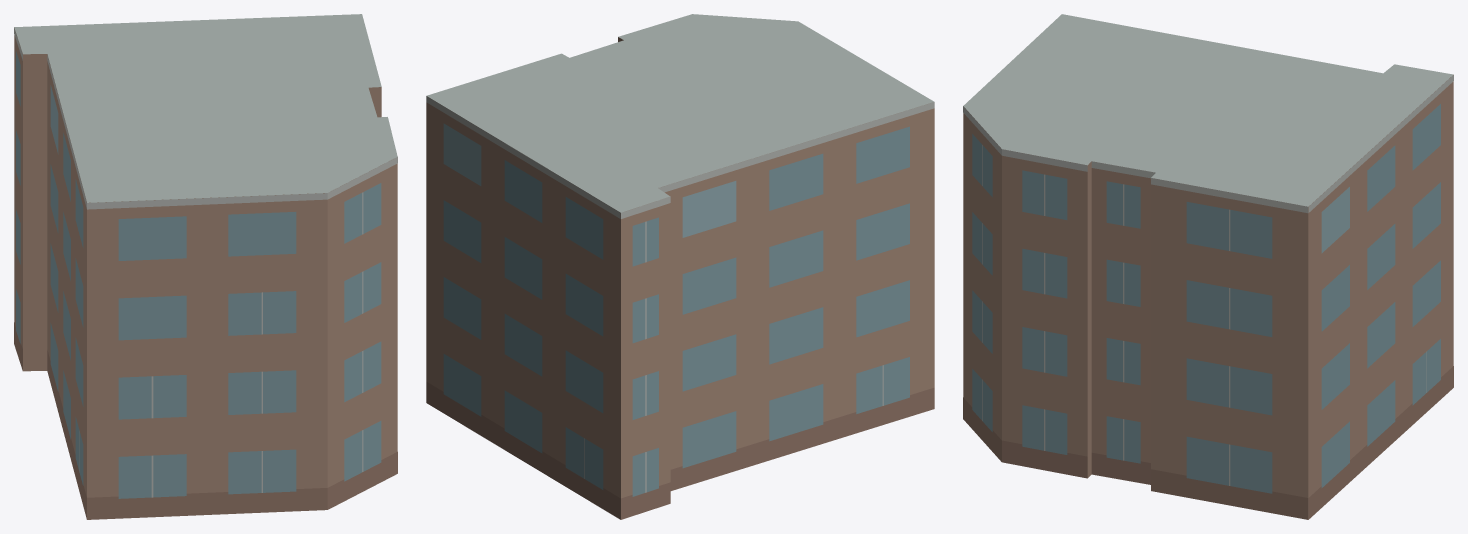
File: survey-upis-32530663.glb
3 views of the same model, side by side, from view 1: azimuth 30°, elevation 25°; view 2: azimuth 150°, elevation 25°; view 3: azimuth 270°, elevation 25° (orthographic). The views are drawn at different scales.
Visible parts, largest first — view 1: survey-upis-32530663.tmp; view 2: survey-upis-32530663.tmp; view 3: survey-upis-32530663.tmp.
Boxes of the visible parts, <box> form: survey-upis-32530663.tmp: <box>14,14,397,519</box>; survey-upis-32530663.tmp: <box>426,14,934,519</box>; survey-upis-32530663.tmp: <box>963,14,1453,519</box>.
Bounding box in the file's own units: 15.29 × 11.58 × 16.45.
